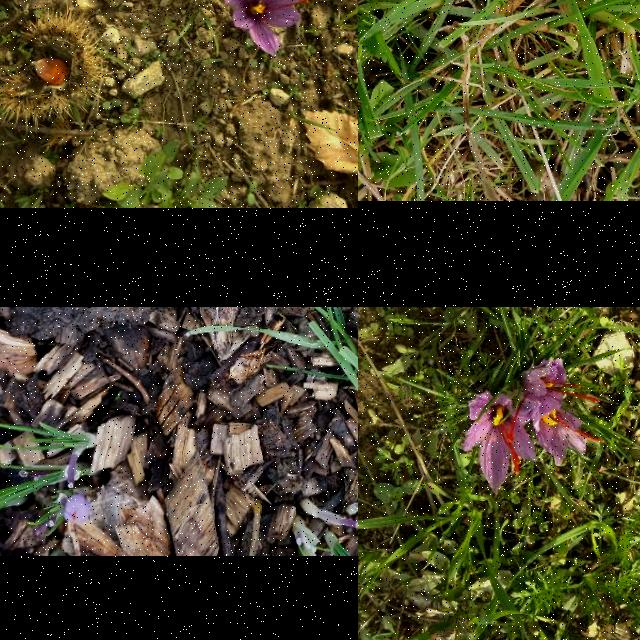flower: (215, 0, 309, 57), (64, 496, 90, 526)
overlap: (464, 358, 604, 496)
